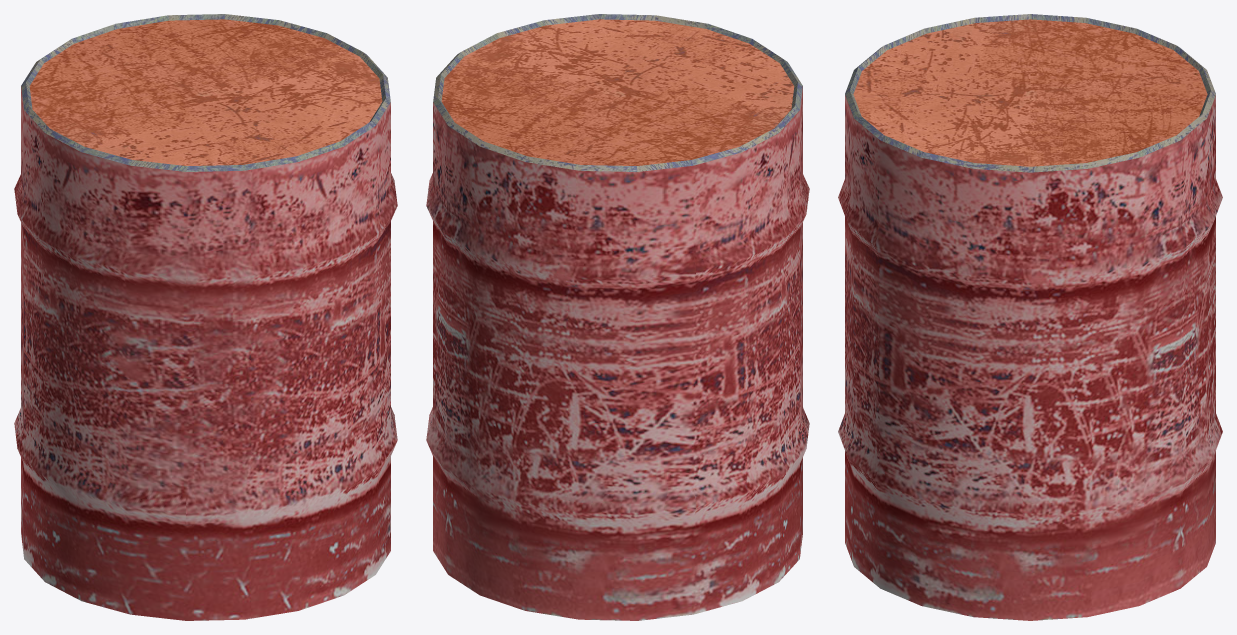
Rendered from ExplosionBarrel.fbx.
The picture shows the model from 3 angles, left to right: view 1: azimuth 30°, elevation 25°; view 2: azimuth 150°, elevation 25°; view 3: azimuth 270°, elevation 25°; orthographic projection.
Parts seen in each view (by area): view 1: ExplosionBarrel1; view 2: ExplosionBarrel1; view 3: ExplosionBarrel1.
Boxes of the visible parts, <box> form: ExplosionBarrel1: <box>14,14,397,620</box>; ExplosionBarrel1: <box>426,14,809,620</box>; ExplosionBarrel1: <box>838,14,1222,620</box>.
Size of the model in its own units: 175 by 226 by 175.
